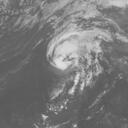cyclone: (46, 30, 109, 70)
